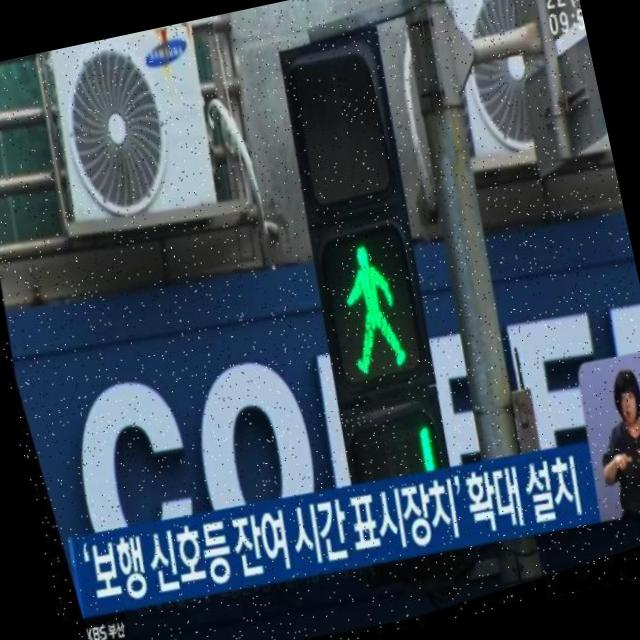green_light: (308, 240, 430, 398)
